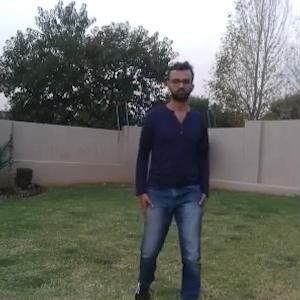follow: (146, 75, 209, 294)
